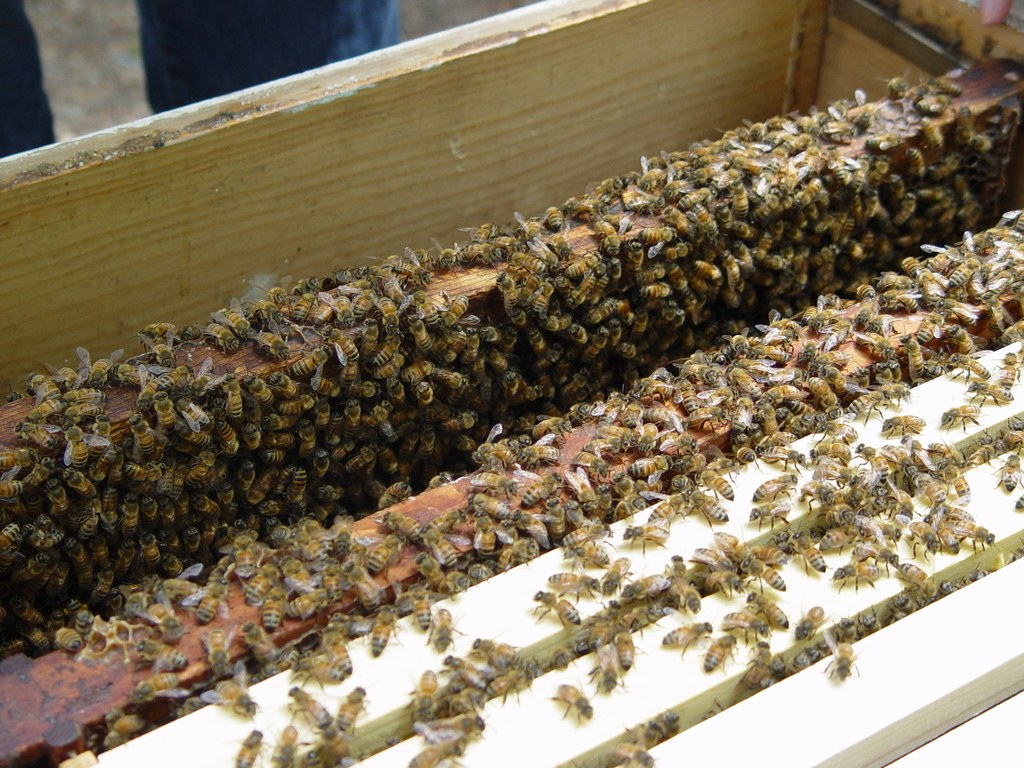bee: (0, 0, 1023, 767), (0, 65, 1023, 767), (203, 664, 259, 719)
